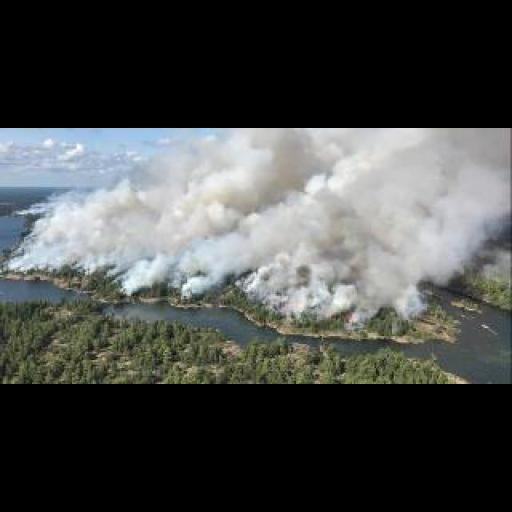smoke: (18, 136, 454, 330)
